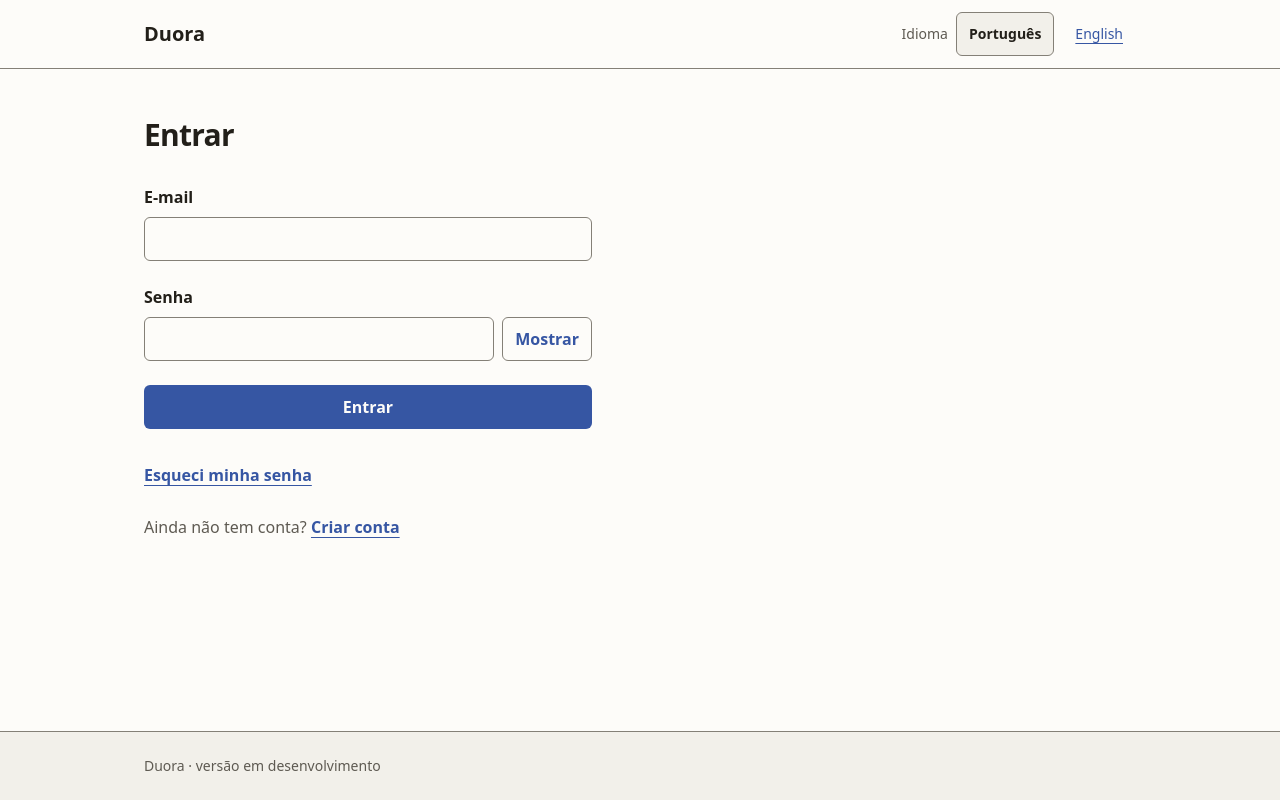
Test: seletor de idioma › trocar para inglês atualiza textos, título, lang e guarda a escolha
Click the button "English" at (1099,34), box [1062,12,1136,56]
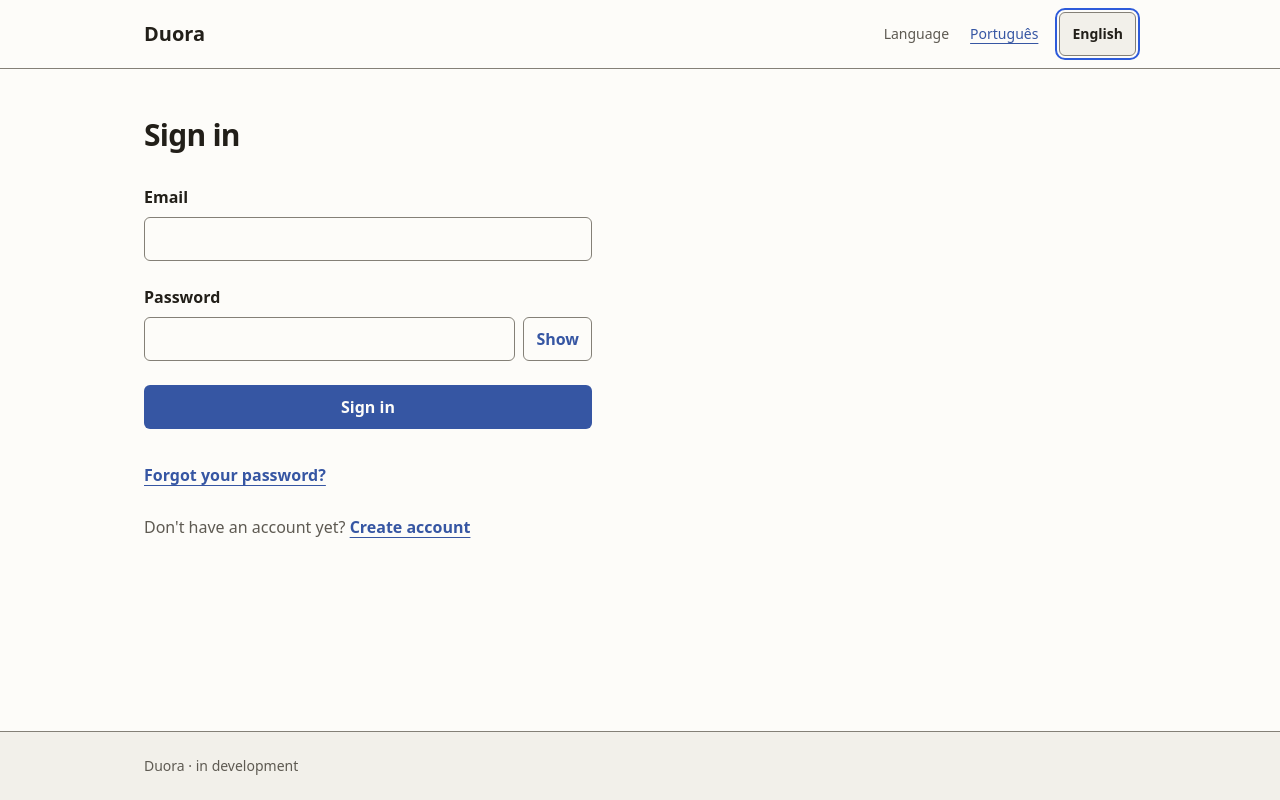
Check: the field labelled "Email" is shown, box [144,217,592,261]
Check: the heading "Sign in" is shown, box [144,117,240,153]
